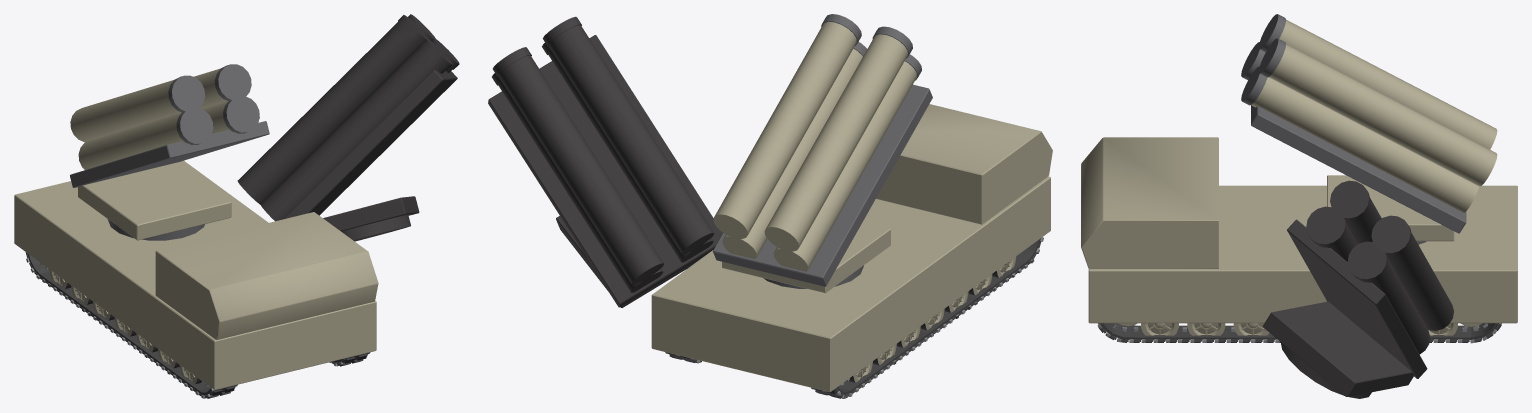
Rendered from samLauncher__s_300vm_iris_t_slm.glb.
3 renders of one model, left to right at view 1: azimuth 30°, elevation 25°; view 2: azimuth 150°, elevation 25°; view 3: azimuth 270°, elevation 25°, orthographic. The views are drawn at different scales.
Parts seen in each view (by area): view 1: Hull_Mesh, Wreck, Gun_Mesh, Turret_Mesh, Track_L_Mesh; view 2: Hull_Mesh, Wreck, Gun_Mesh, Turret_Mesh, Track_L_Mesh; view 3: Hull_Mesh, Gun_Mesh, Wreck, Track_R_Mesh, Turret_Mesh, Wheel_R5_Mesh, Wheel_R6_Mesh, Wheel_R4_Mesh.
Boxes of the visible parts, <box> form: Hull_Mesh: <box>14,160,378,389</box>; Wreck: <box>26,14,459,397</box>; Gun_Mesh: <box>70,64,269,187</box>; Turret_Mesh: <box>78,162,231,240</box>; Track_L_Mesh: <box>25,252,237,398</box>; Hull_Mesh: <box>651,104,1052,392</box>; Wreck: <box>488,16,1040,398</box>; Gun_Mesh: <box>712,14,932,286</box>; Turret_Mesh: <box>722,222,890,293</box>; Track_L_Mesh: <box>811,237,1043,398</box>; Hull_Mesh: <box>1081,137,1517,323</box>; Gun_Mesh: <box>1241,14,1497,233</box>; Wreck: <box>1098,180,1496,398</box>; Track_R_Mesh: <box>1097,323,1501,343</box>; Turret_Mesh: <box>1327,175,1454,244</box>; Wheel_R5_Mesh: <box>1187,323,1225,340</box>; Wheel_R6_Mesh: <box>1141,323,1178,340</box>; Wheel_R4_Mesh: <box>1233,323,1269,341</box>.
Size of what is drawn, in the model's own units: 8.43 by 5.48 by 7.9.
